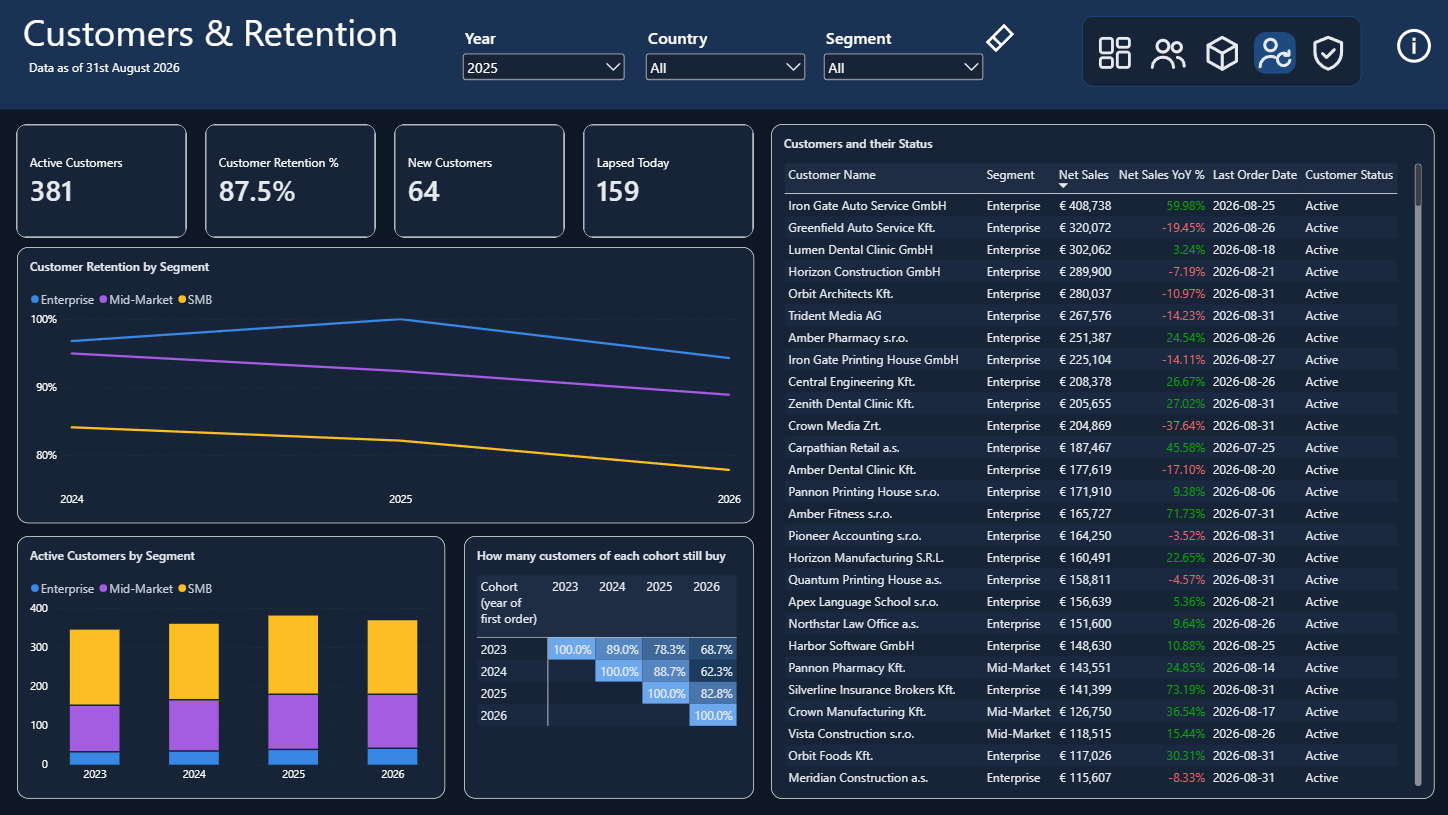

What the dashboard file says about the page in this screenshot:
{"tool":"powerbi","page":{"name":"Page 4 - Customers & Retention","canvas":[1920,1080],"ordinal":3},"visuals":[{"type":"cardVisual","fields":{"Data":["_Measures.Active Customers"]},"box":[28,166,225,150],"z":0},{"type":"cardVisual","fields":{"Data":["_Measures.Customer Retention %"]},"box":[276.8,166,225,150],"z":1000},{"type":"cardVisual","fields":{"Data":["_Measures.New Customers"]},"box":[525.6,166,225,150],"z":2000},{"type":"cardVisual","fields":{"Data":["_Measures.Lapsed Customers"]},"box":[774.4,165.9,225,150],"z":3000},{"type":"columnChart","title":"Active Customers by Segment","fields":{"Category":["Date.year"],"Series":["Customer.segment"],"Y":["_Measures.Active Customers"]},"box":[28.6,708.4,563.9,346.2],"z":4000},{"type":"lineChart","title":"Customer Retention by Segment","fields":{"Category":["Date.year"],"Series":["Customer.segment"],"Y":["_Measures.Customer Retention %"]},"box":[28.6,328.3,970.7,364],"z":5000},{"type":"pivotTable","title":"How many customers of each cohort still buy","fields":{"Columns":["Date.year"],"Rows":["Customer.cohort_year"],"Values":["_Measures.Cohort Retention %"]},"box":[617.4,708.4,381.9,346.2],"z":6000},{"type":"tableEx","title":"Customers and their Status","fields":{"Values":["Customer.customer_name","Customer.segment","_Measures.Net Sales","_Measures.Net Sales YoY %","Customer.last_order_date","Customer.customer_status"]},"box":[1022.5,165.9,874.3,888.6],"z":7000},{"type":"shape","box":[0,0,1920,146.6],"z":8000},{"type":"slicer","fields":{"Values":["Date.year"]},"box":[611.4,37.5,223.5,85.8],"z":9000},{"type":"slicer","fields":{"Values":["Customer.country"]},"box":[852.7,37.5,219.9,85.8],"z":10000},{"type":"slicer","fields":{"Values":["Customer.segment"]},"box":[1086.9,37.5,219.9,85.8],"z":11000},{"type":"textbox","box":[36.7,12.2,555.6,118.8],"z":12000},{"type":"textbox","box":[45,80.4,232.9,48.8],"z":13000},{"type":"actionButton","box":[1294.3,28.6,57.2,48.3],"z":14000},{"type":"shape","box":[1431.3,23.7,368.3,93],"z":15000},{"type":"actionButton","box":[1447.9,44.3,55.4,55.4],"z":16000},{"type":"actionButton","box":[1517.9,44.3,56,56],"z":17000},{"type":"actionButton","box":[1587.9,45.2,56,56],"z":18000},{"type":"actionButton","box":[1657.9,45.2,55.4,55.4],"z":19000},{"type":"actionButton","box":[1727.9,45.2,56,56],"z":20000},{"type":"actionButton","box":[1839.6,28.6,57.2,67.9],"z":21000}]}

Visuals, with their boxes in screenshot pixels (x1, y1, x2, y2), scaled from the page's 1920x1080 canvas onto the 1448x815 screenshot:
cardVisual - _Measures.Active Customers: box(21, 125, 191, 238)
cardVisual - _Measures.Customer Retention %: box(209, 125, 378, 238)
cardVisual - _Measures.New Customers: box(396, 125, 566, 238)
cardVisual - _Measures.Lapsed Customers: box(584, 125, 754, 238)
"Active Customers by Segment" columnChart: box(22, 535, 447, 796)
"Customer Retention by Segment" lineChart: box(22, 248, 754, 522)
"How many customers of each cohort still buy" pivotTable: box(466, 535, 754, 796)
"Customers and their Status" tableEx: box(771, 125, 1431, 796)
shape: box(0, 0, 1447, 111)
slicer - Date.year: box(461, 28, 630, 93)
slicer - Customer.country: box(643, 28, 809, 93)
slicer - Customer.segment: box(820, 28, 986, 93)
textbox: box(28, 9, 447, 99)
textbox: box(34, 61, 210, 97)
actionButton: box(976, 22, 1019, 58)
shape: box(1079, 18, 1357, 88)
actionButton: box(1092, 33, 1134, 75)
actionButton: box(1145, 33, 1187, 76)
actionButton: box(1198, 34, 1240, 76)
actionButton: box(1250, 34, 1292, 76)
actionButton: box(1303, 34, 1345, 76)
actionButton: box(1387, 22, 1431, 73)
